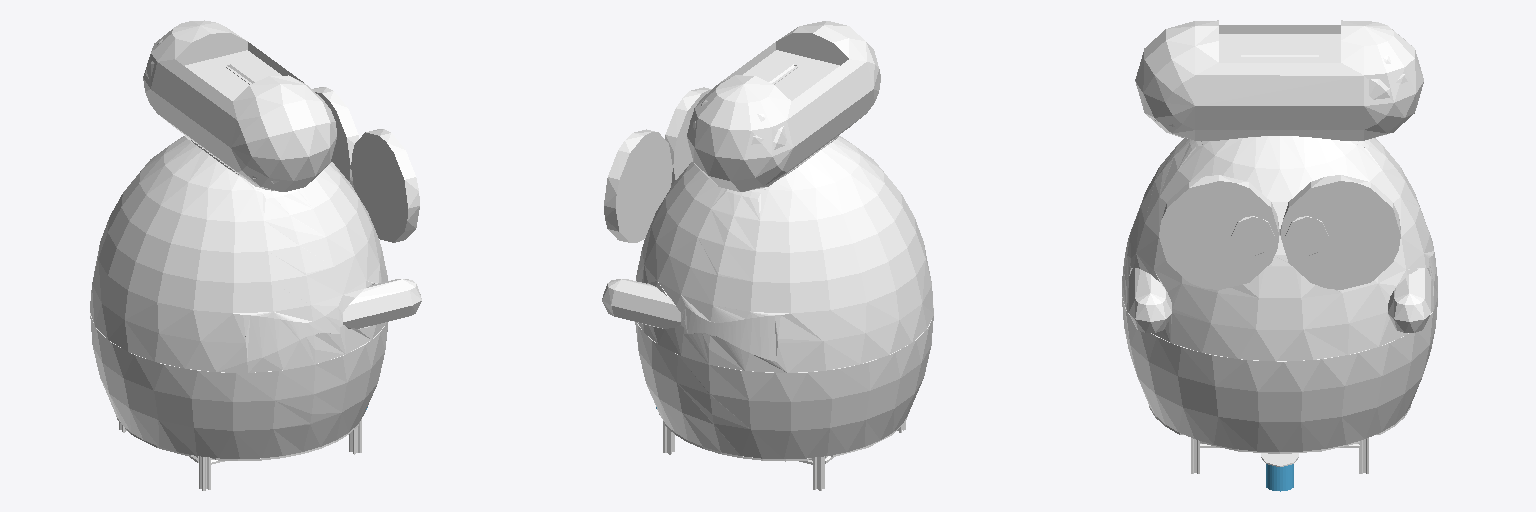
The robot description file, URDF, robot "pill":
<?xml version="1.0"?>

<robot name="pill">

  <!-- base_footprint -->
  <link name="base_footprint">
    <visual>
      <origin xyz="0 0 0.106" rpy="0 0 0" />
      <geometry>
        <mesh
          filename="package://pill_description/meshes/base_footprint.STL" scale="0.001 0.001 0.001" />
      </geometry>
      <material name="dark_gray">
        <color rgba="0.2 0.2 0.2 1.0"/>
      </material>
    </visual>
    <collision>
      <origin xyz="0 0 0" rpy="1.570796 0 3.141592"/>
    </collision> 
  </link>

  <!-- base_link -->
  <link name="base_link">
    <visual>
      <origin xyz="0 0 0" rpy="3.141592 0 1.570796" />
      <geometry>
        <mesh
          filename="package://pill_description/meshes/base_link.STL" scale="0.001 0.001 0.001" />
      </geometry>
      <material name="white">
        <color rgba="1 1 1 1"/>
      </material>
    </visual>
    <collision>
      <origin xyz="0 0 0" rpy="3.141592 0 3.141592"/>
    </collision>
  </link>

  <!-- Joint connecting base_footprint and base_link -->
  <joint name="base_footprint_to_base_link" type="fixed">
    <origin xyz="-0.0274 -0.0735 0.511" rpy="0 0 0" />
    <parent link="base_footprint"/>
    <child link="base_link"/>
  </joint>

  <!-- Laser link -->
  <link name="laser">
      <visual>
        <origin xyz="0 0 0" rpy="0 0 1.570796" />
        <geometry>
          <cylinder length="0.06" radius="0.03"  />
        </geometry>
        <material name="blue">
          <color rgba="0.4 0.8 1.0 1.0"/>
        </material>
      </visual>
  </link>

  <!-- Joint for laser -->
  <joint name="laser_frame" type="fixed">
    <origin xyz="0.3 -0.0735 -0.36" rpy="0 3.141592 0" />
    <parent link="base_link"/>
    <child link="laser" />
  </joint>

</robot>

--- What the picture shows (computed from the rendered views, not written in the file) ---
The picture shows the robot from 3 angles, left to right: view 1: azimuth 30°, elevation 25°; view 2: azimuth 150°, elevation 25°; view 3: azimuth 270°, elevation 25°; orthographic projection.
Model pill with 3 links and 2 joints (2 fixed), rooted at base_footprint, posed every joint at zero.
Links seen in each view (by area): view 1: base_link; view 2: base_link; view 3: base_link, laser.
Boxes of the visible links, x1,y1,x2,y2 form: base_link: (90, 20, 421, 490); base_link: (602, 21, 933, 490); base_link: (1122, 20, 1437, 473); laser: (1266, 464, 1293, 491).
Bounding box of the posed robot: 0.6604 × 0.6569 × 0.9321 m (x, y, z).
1 mesh visuals loaded from 2 distinct referenced files (1 binary STL); not drawn: 1 (reference not matched to a file when rendering).